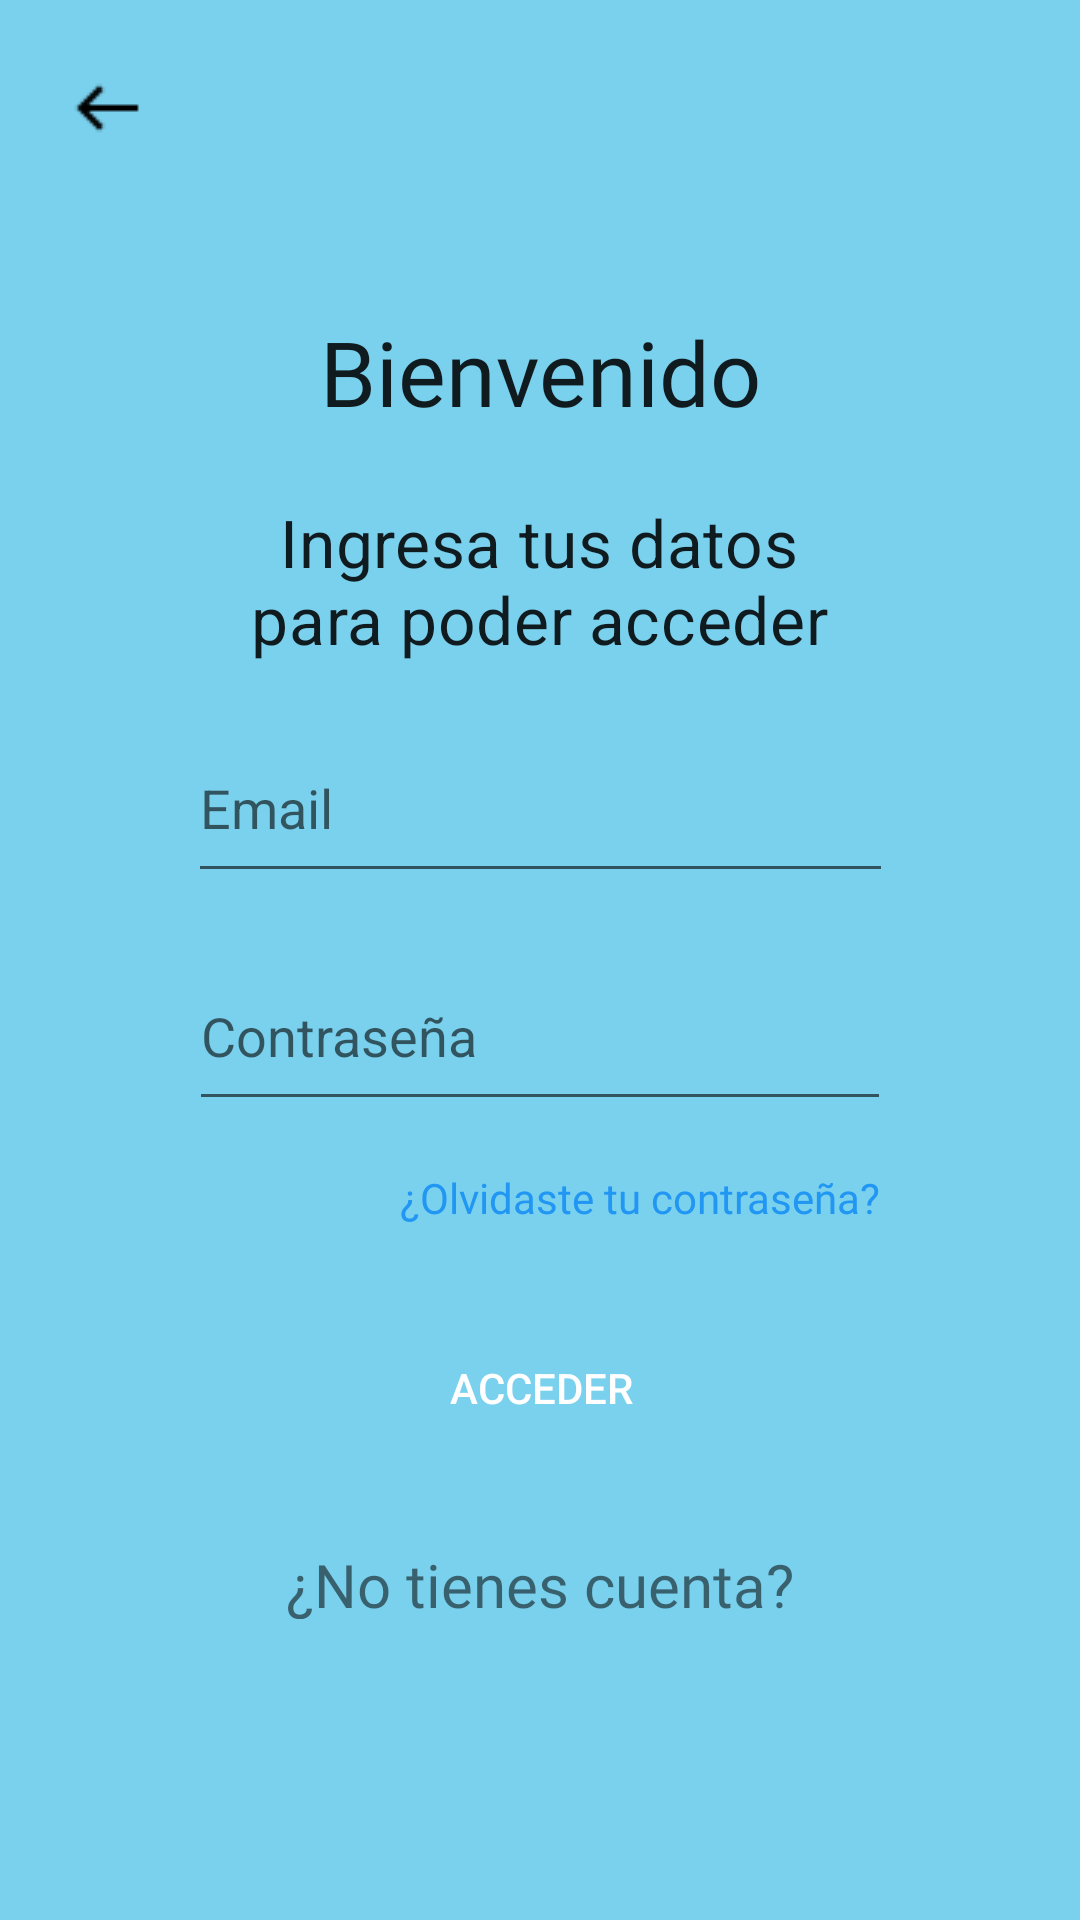

Icon click points for this 1080w x 1920h phone screenshot, format (x,y):
flecha: (107,108)
